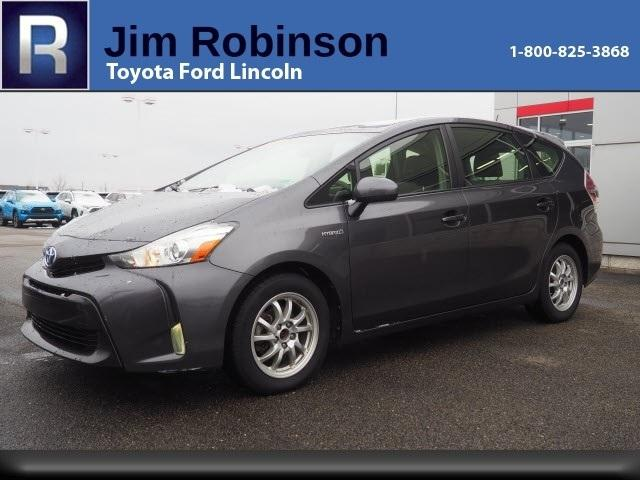Toyota Prius: (16, 113, 607, 400)
